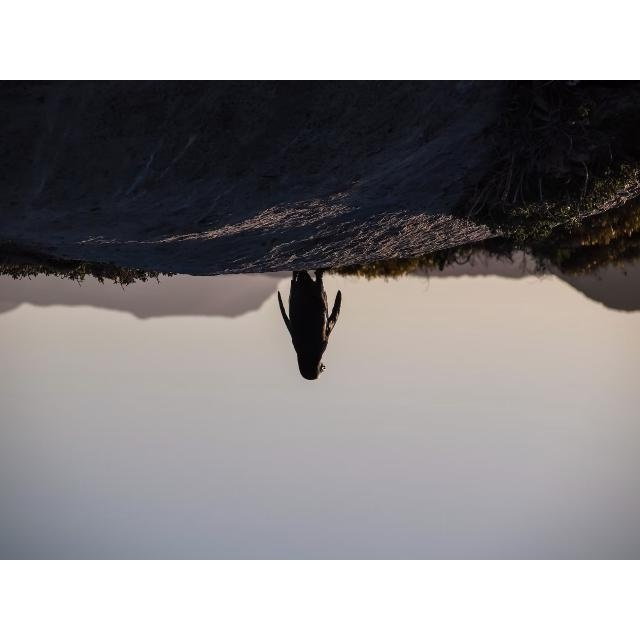penguin: (278, 265, 342, 381)
